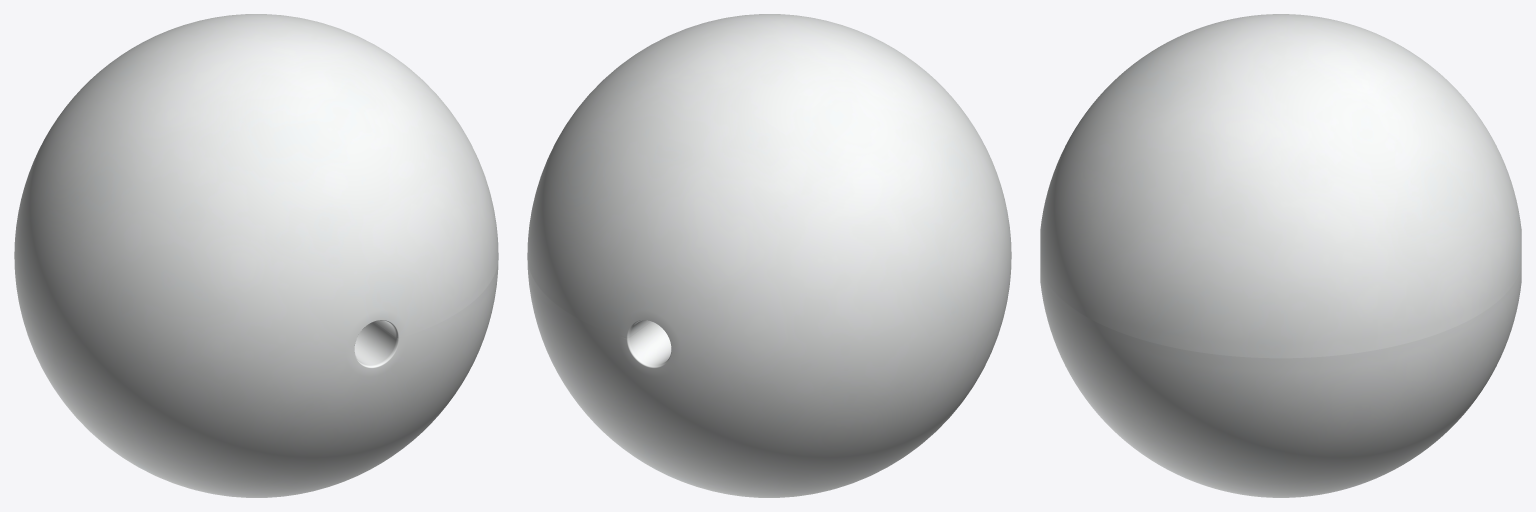
The model's file is clear-quartz-10mm.glb.
3 views of the same model, side by side, from view 1: azimuth 30°, elevation 25°; view 2: azimuth 150°, elevation 25°; view 3: azimuth 270°, elevation 25° (orthographic).
Parts seen in each view (by area): view 1: clear-quartz.001; view 2: clear-quartz.001; view 3: clear-quartz.001.
Boxes of the visible parts, x1,y1,x2,y2 form: clear-quartz.001: [14, 14, 498, 497]; clear-quartz.001: [527, 14, 1011, 497]; clear-quartz.001: [1040, 14, 1521, 497].
Bounding box in the file's own units: 0.01 × 0.01 × 0.00994.
Materials: 2 (1 with a texture image).
